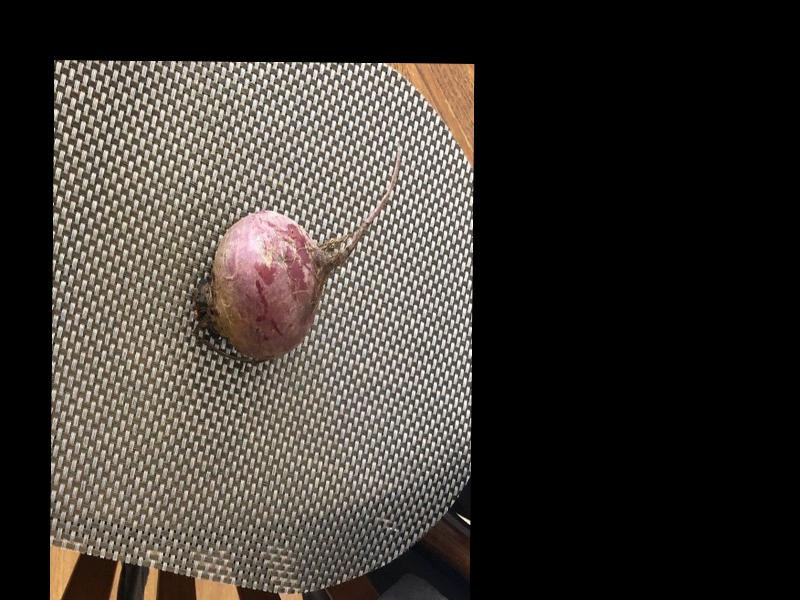Beet: (191, 143, 402, 362)
